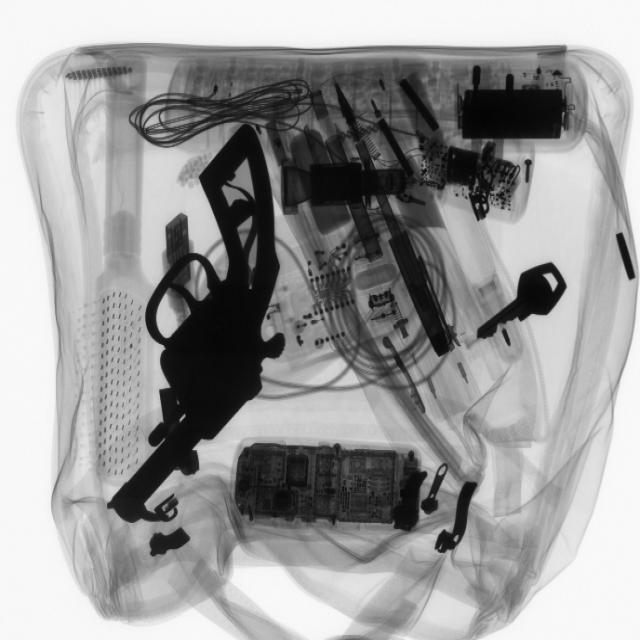GUN: (131, 117, 287, 524)
